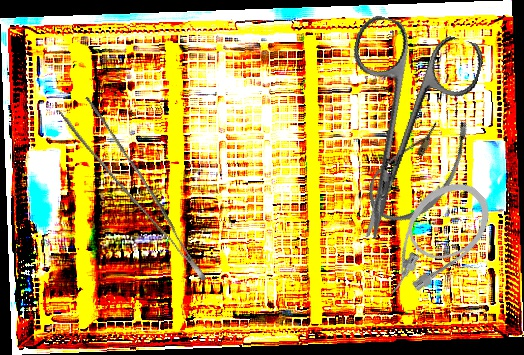Cannula: (360, 167, 504, 311), (356, 95, 484, 239)
Iris Scissors: (304, 11, 488, 255)
Tissue Forceps: (59, 90, 207, 301)
